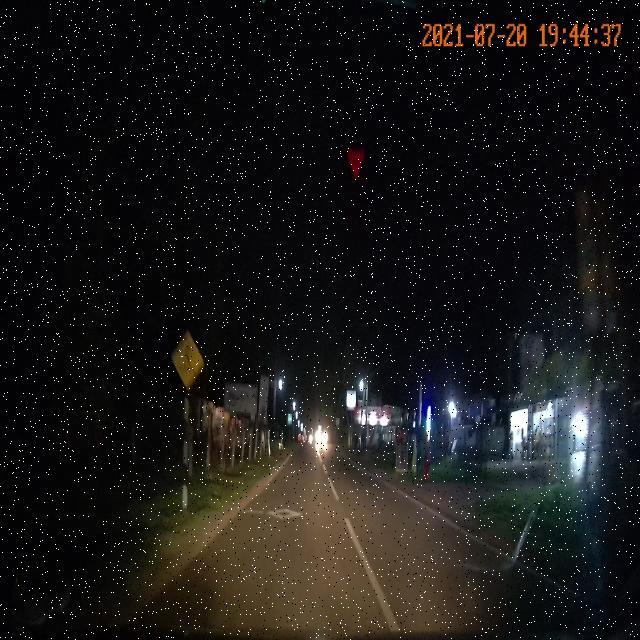diamond: (224, 505, 350, 523)
